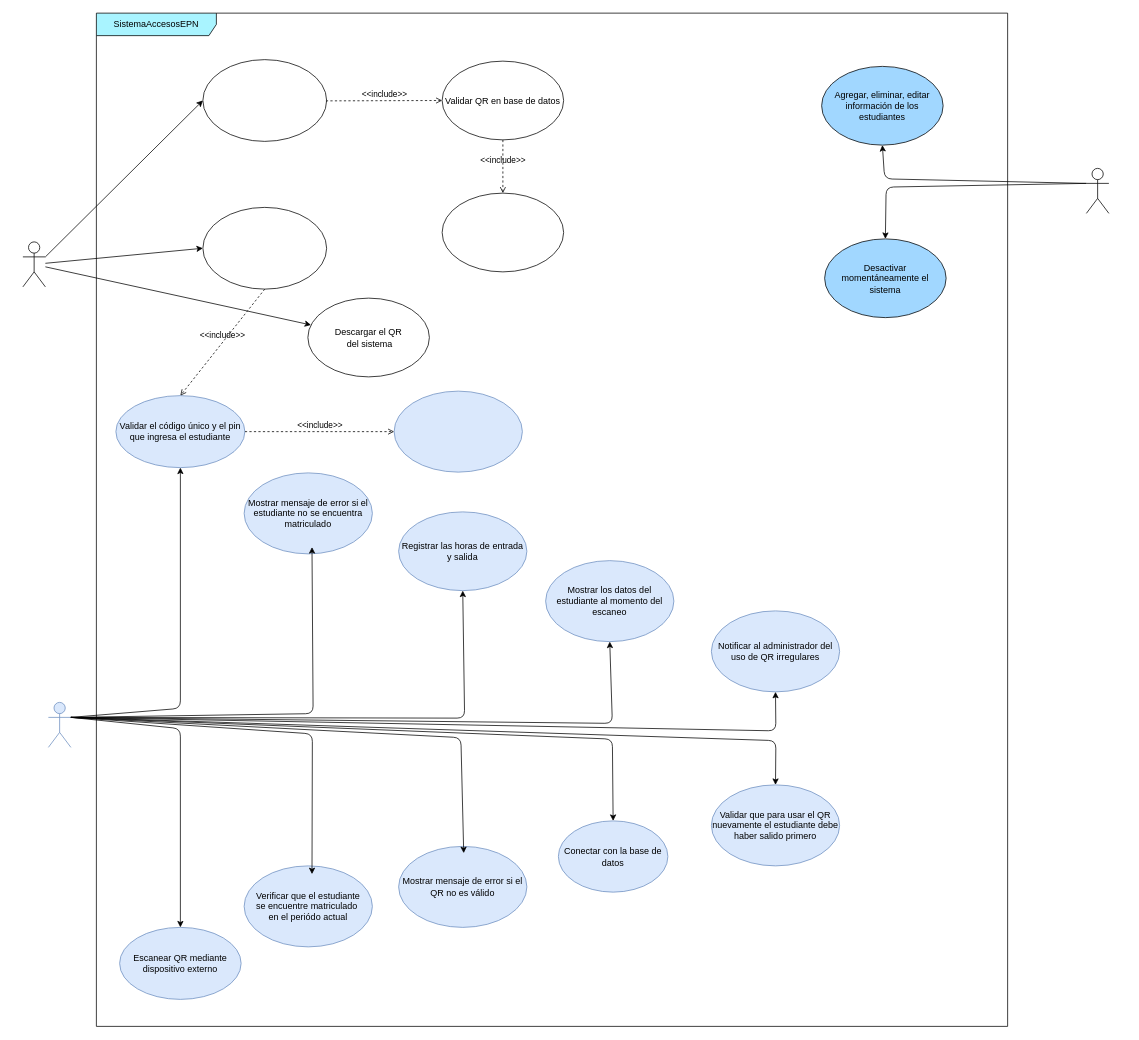
The diagram is 1139 pixels wide and 1040 high, and some of its shapes have lost their labels. Each missing label, with the centre of its shape:
"Administrador" goes at [1097,190].
"Estudiante" goes at [33,264].
"Generar un QR, ingresando su código único y pin en el sistema" goes at [264,248].
"Permitir el escaneo del QR mediante un dispositivo externo" goes at [457,431].
"Registrar entrada o salida de la universidad" goes at [264,100].
"Sistema" goes at [59,724].
"Verificar matrícula del periodo actual" goes at [502,232].
